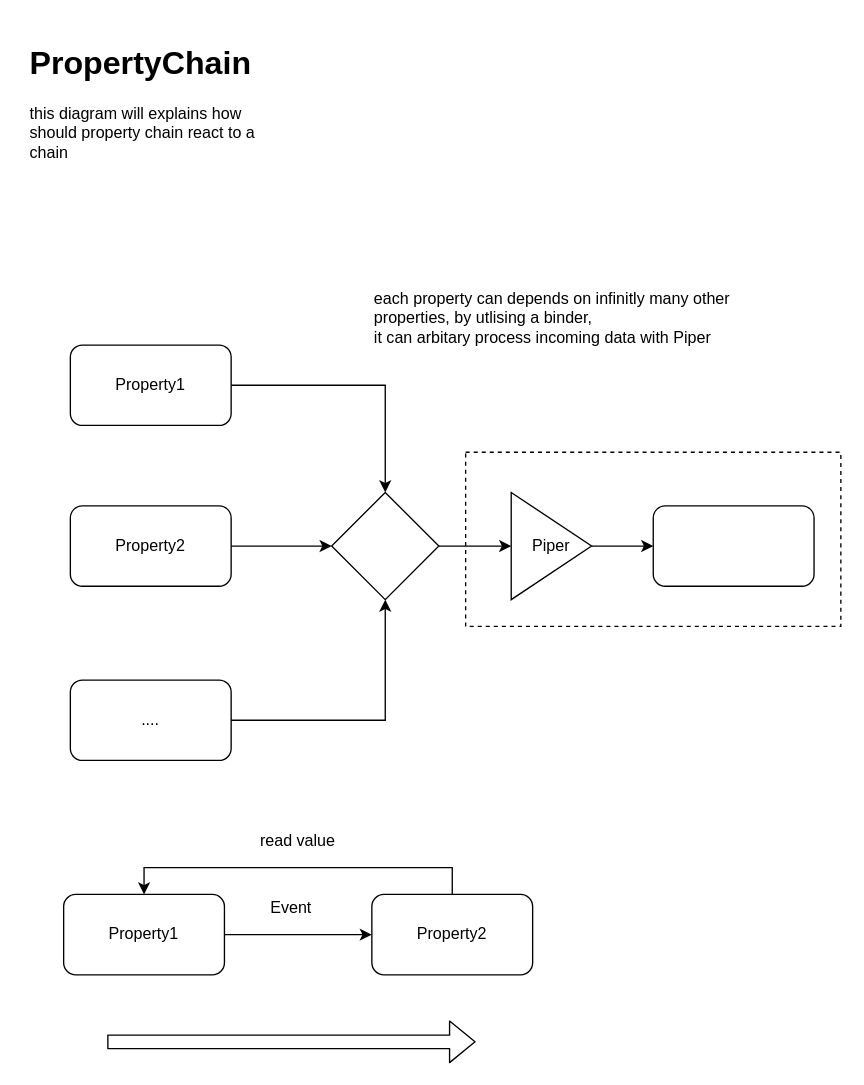
Some shapes in this 864 by 1085 pixel diagram are drawn without their labels. Here are the shapes that lost their labels. From the top down, the centre of each, then its label:
At [384,545]: "Binder".
At [733,545]: "Property3".
